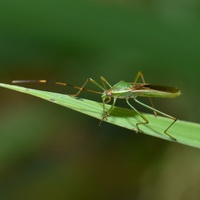insect: (9, 77, 180, 140)
